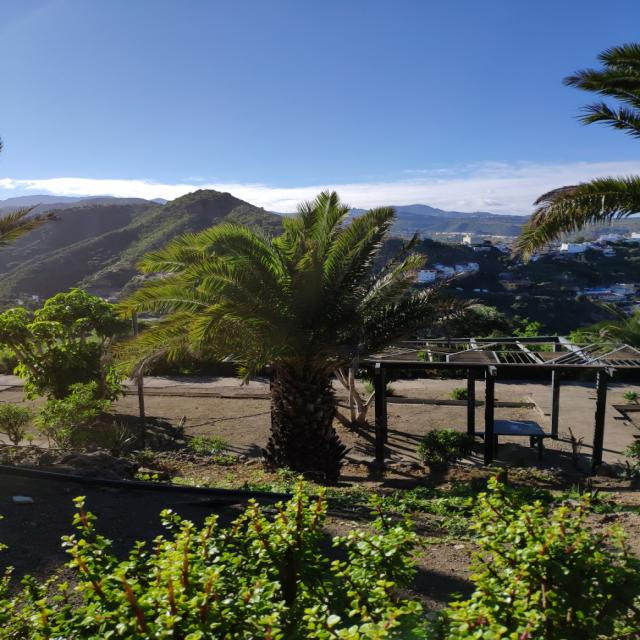Palm-Trees: (155, 189, 464, 481)
